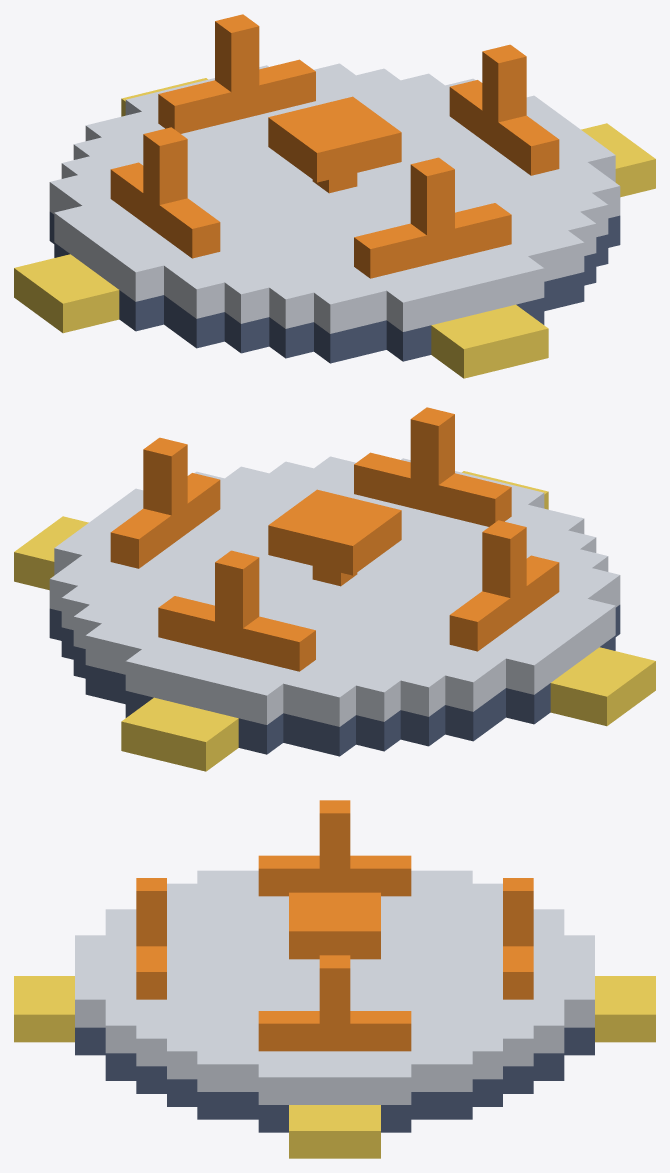
File: pelicano_coupler.dae
3 renders of one model, top to bottom at view 1: azimuth 30°, elevation 25°; view 2: azimuth 150°, elevation 25°; view 3: azimuth 270°, elevation 25°, orthographic. The views are drawn at different scales.
Visible parts, largest first — view 1: ObjObject.023; view 2: ObjObject.023; view 3: ObjObject.023.
Boxes of the visible parts, <box> form: ObjObject.023: <box>14,14,655,378</box>; ObjObject.023: <box>14,407,655,771</box>; ObjObject.023: <box>14,800,655,1158</box>.
Size of the model in its own units: 2.1 by 2.1 by 0.6.
Materials: 1 (1 with a texture image).
